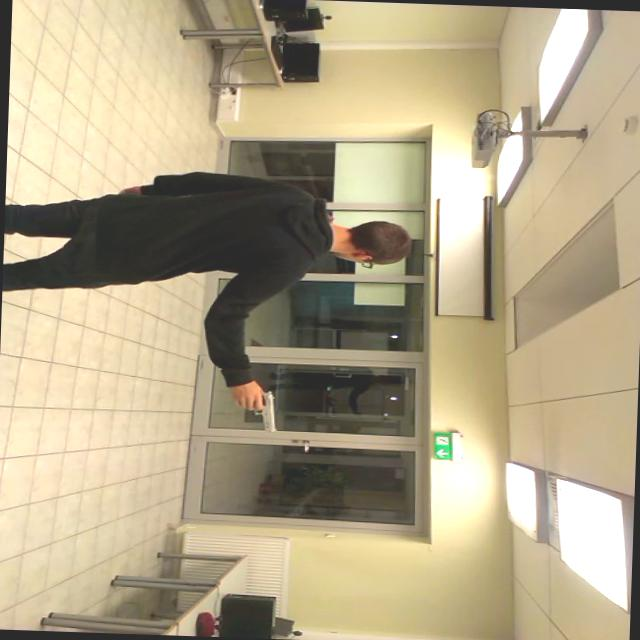handgun: (226, 383, 284, 439)
